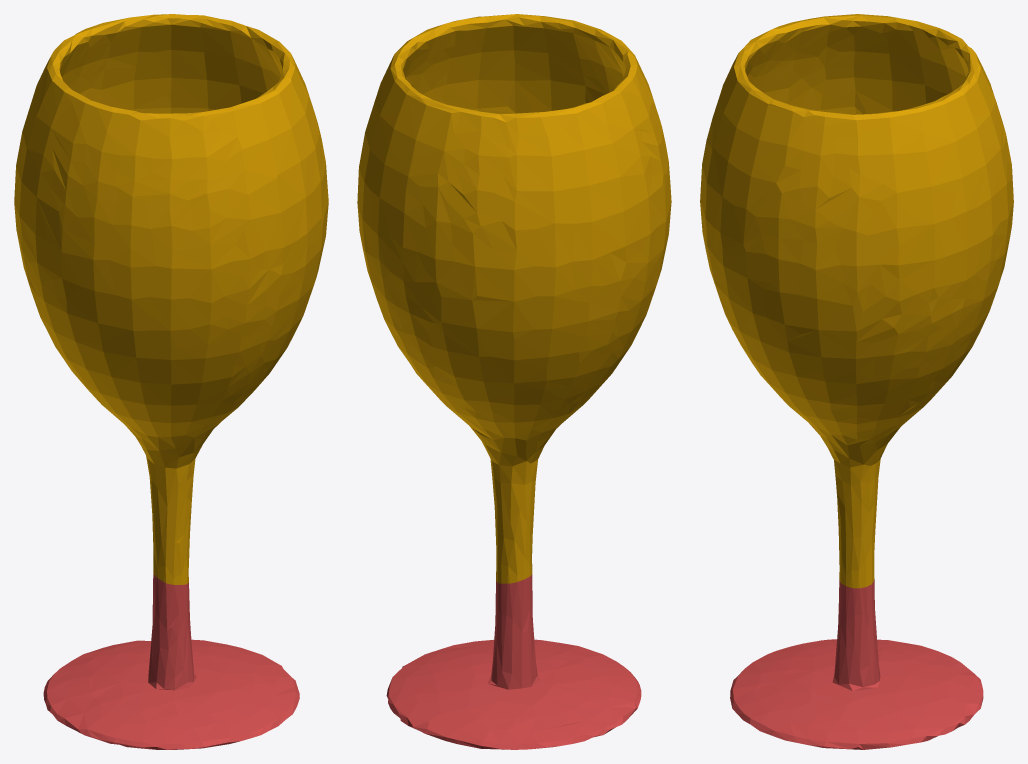
The model's file is fractured_51_2pcs.glb.
3 views of the same model, side by side, from view 1: azimuth 30°, elevation 25°; view 2: azimuth 150°, elevation 25°; view 3: azimuth 270°, elevation 25° (orthographic).
Visible parts, largest first — view 1: piece_0.obj, piece_1.obj; view 2: piece_0.obj, piece_1.obj; view 3: piece_0.obj, piece_1.obj.
Part boxes in pixels (x1,y1,x2,y2): piece_0.obj: (14,14,328,584); piece_1.obj: (43,574,299,749); piece_0.obj: (357,14,671,583); piece_1.obj: (386,574,641,749); piece_0.obj: (700,14,1013,588); piece_1.obj: (730,579,983,749).
Bounding box in the file's own units: 0.4496 × 1 × 0.4495.
